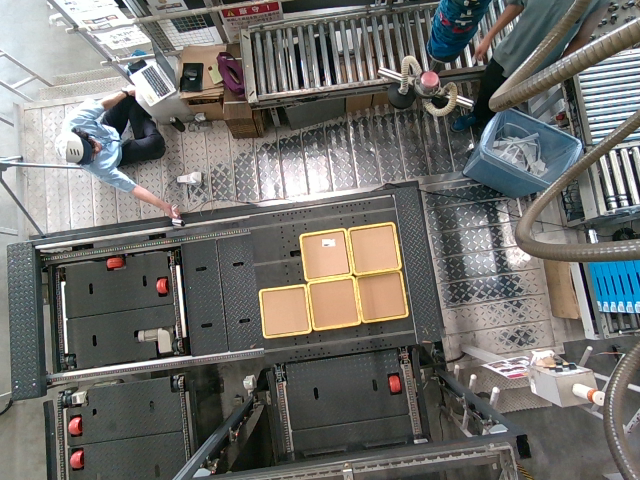box: (298, 230, 351, 281), (346, 224, 399, 275), (356, 272, 409, 323), (308, 278, 361, 329), (257, 285, 310, 336)
